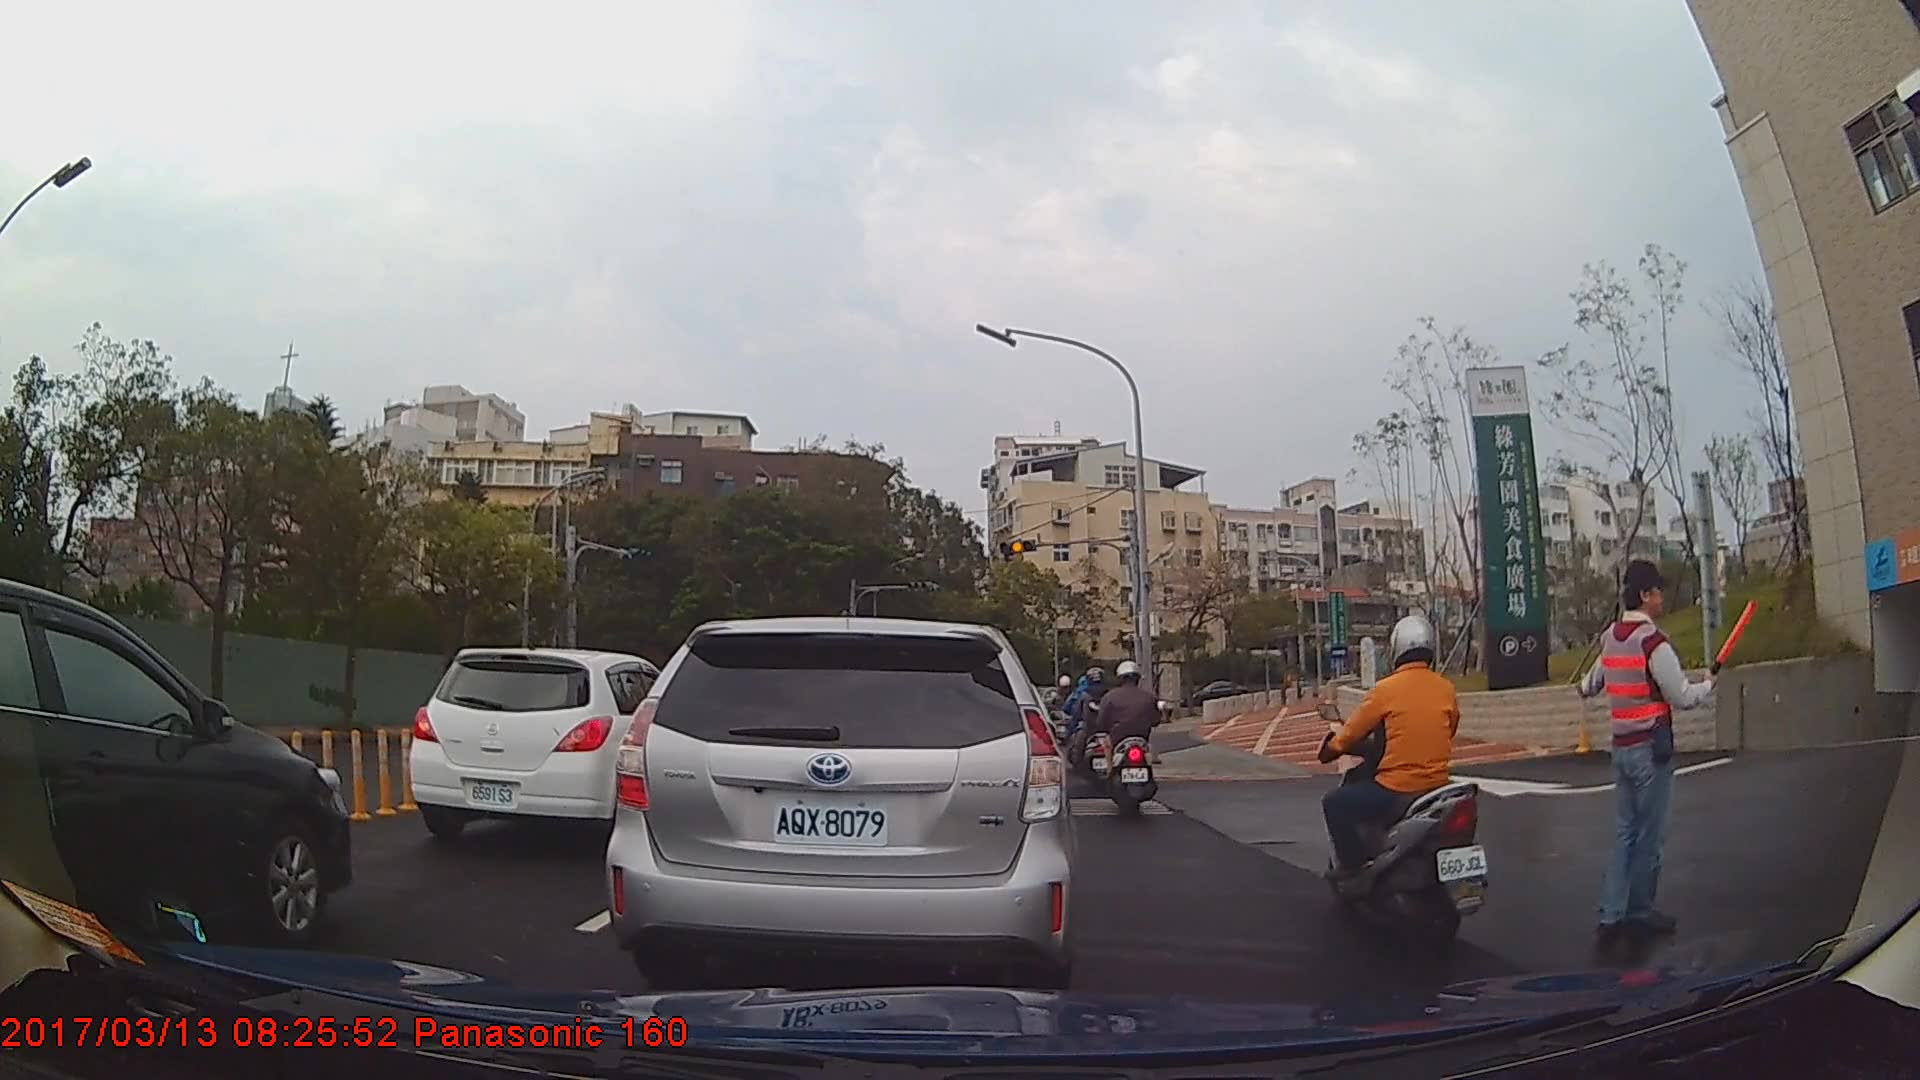pedestrian: (1578, 559, 1751, 942)
rider: (1319, 612, 1493, 949), (1099, 654, 1169, 828), (1072, 667, 1116, 786), (1045, 671, 1076, 752)
vehicle: (604, 618, 1072, 983), (0, 573, 353, 957), (408, 647, 715, 845), (1182, 677, 1250, 710)
